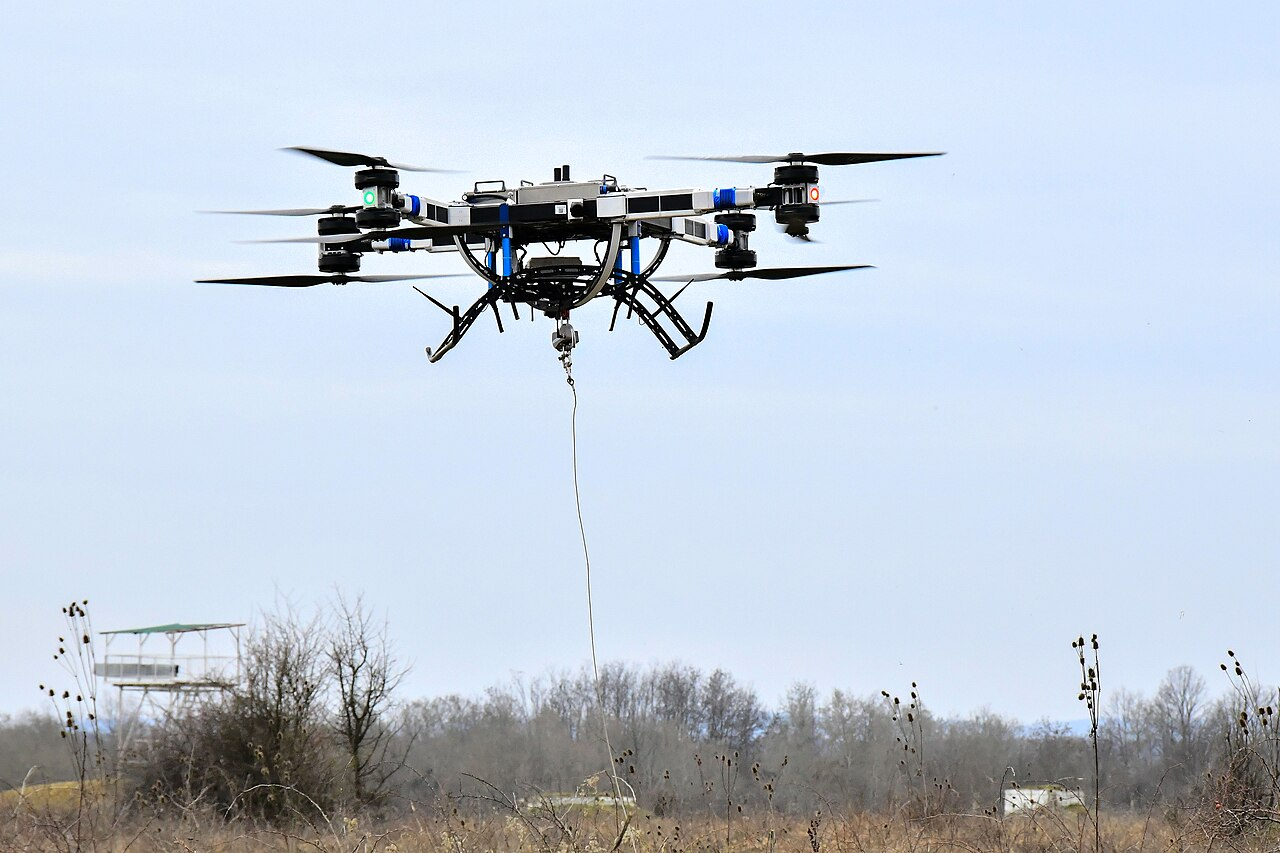drone: (195, 148, 946, 380)
